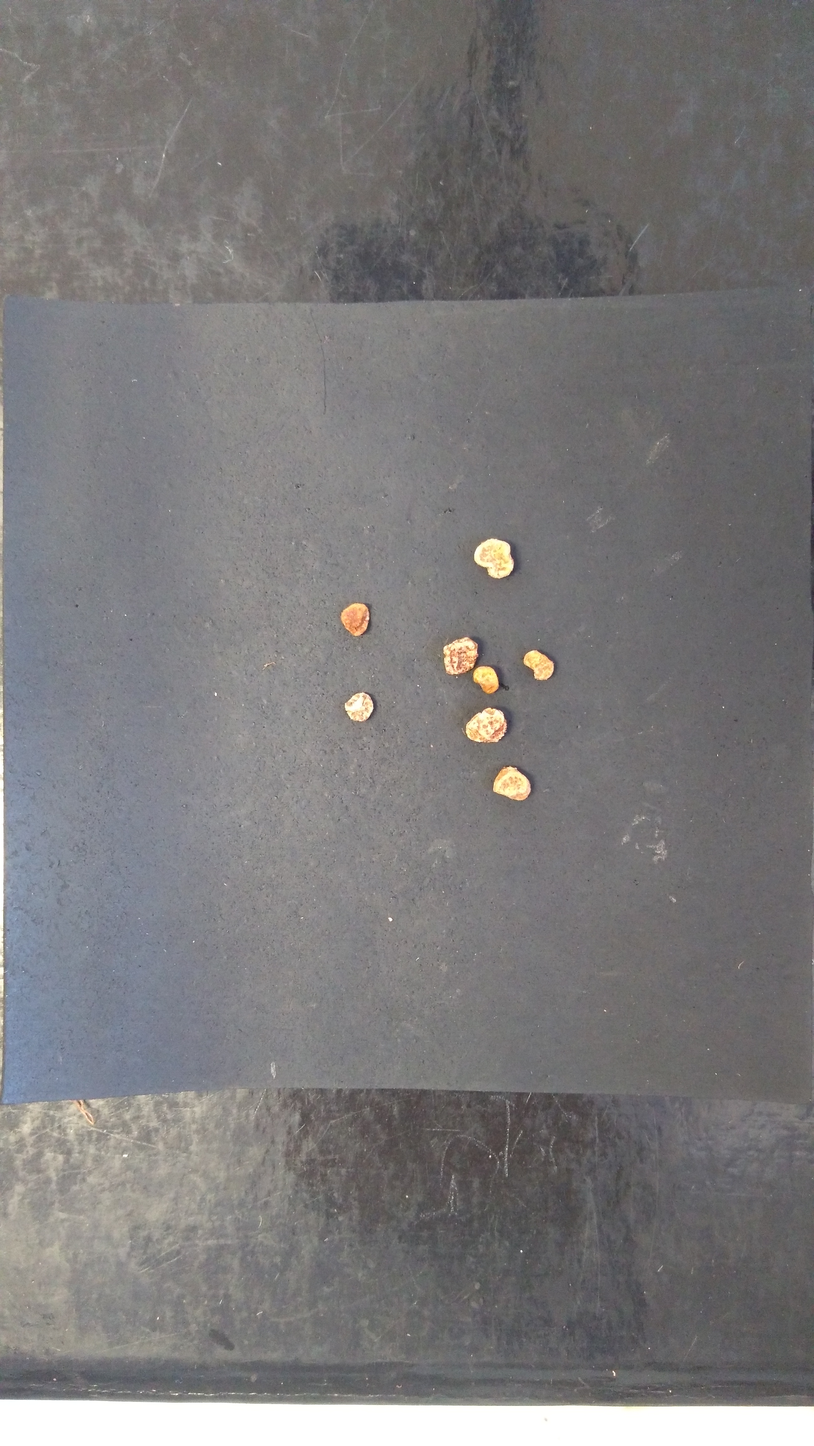nodule: (473, 538, 515, 580), (464, 705, 508, 744), (442, 636, 478, 677), (492, 766, 532, 802), (340, 602, 372, 638), (523, 649, 556, 683), (343, 691, 374, 724), (472, 665, 500, 695)
